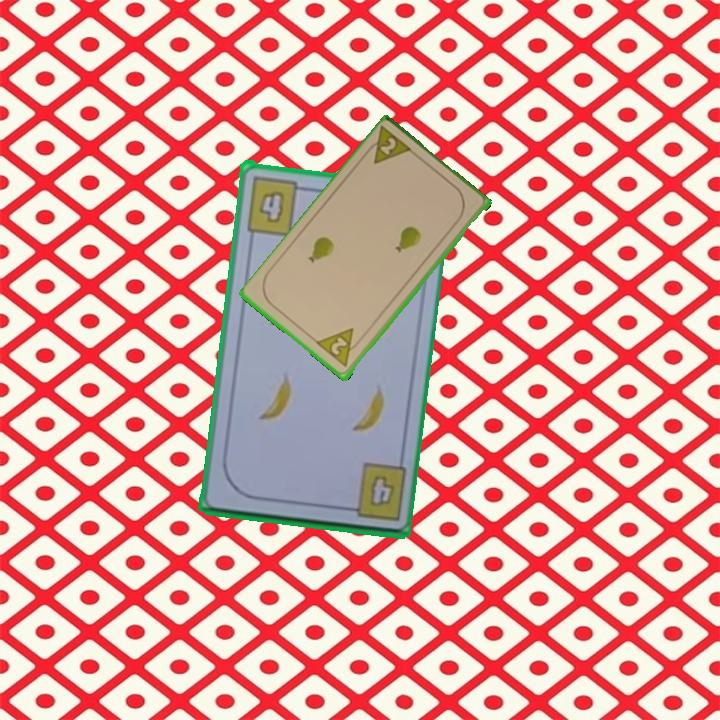2p: (360, 124, 416, 168), (314, 325, 365, 371)
4b: (243, 172, 310, 238), (365, 470, 397, 510)
